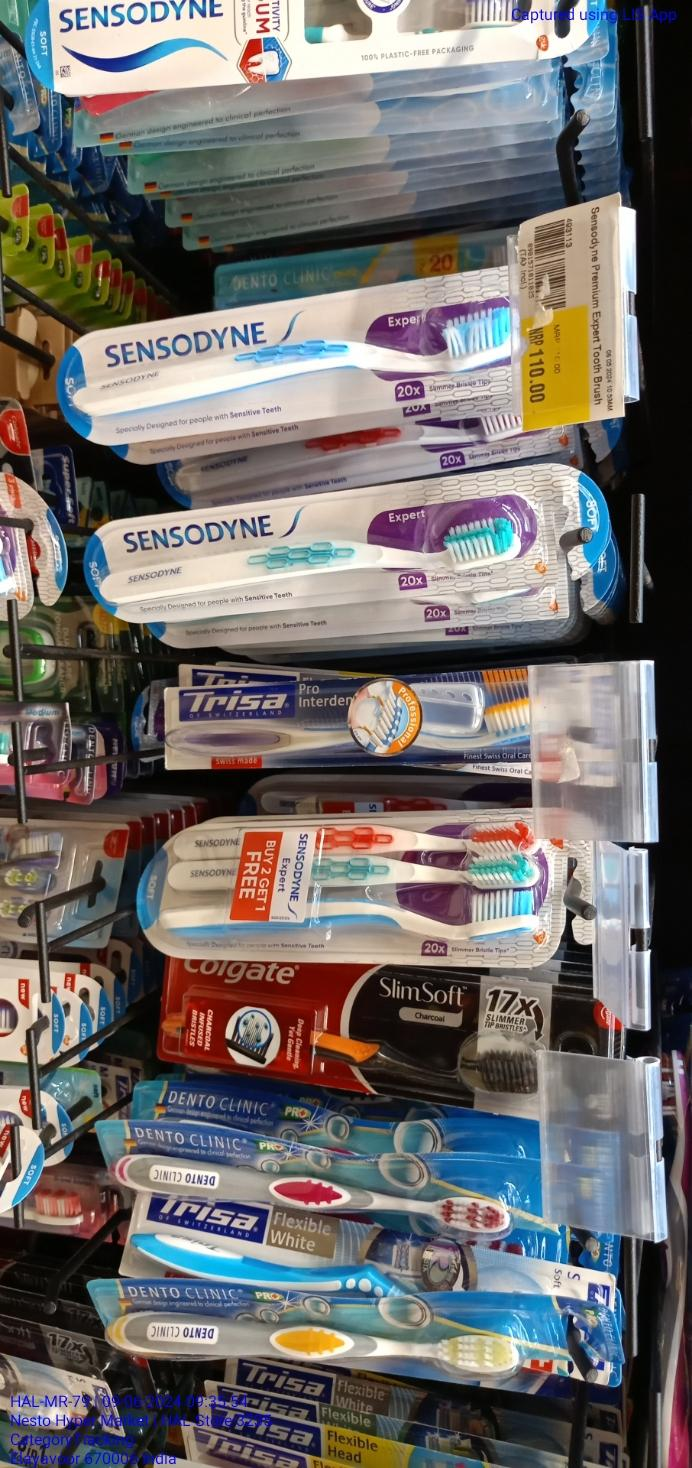6: (381, 194, 453, 1175)
soap: (458, 142, 510, 1141)
